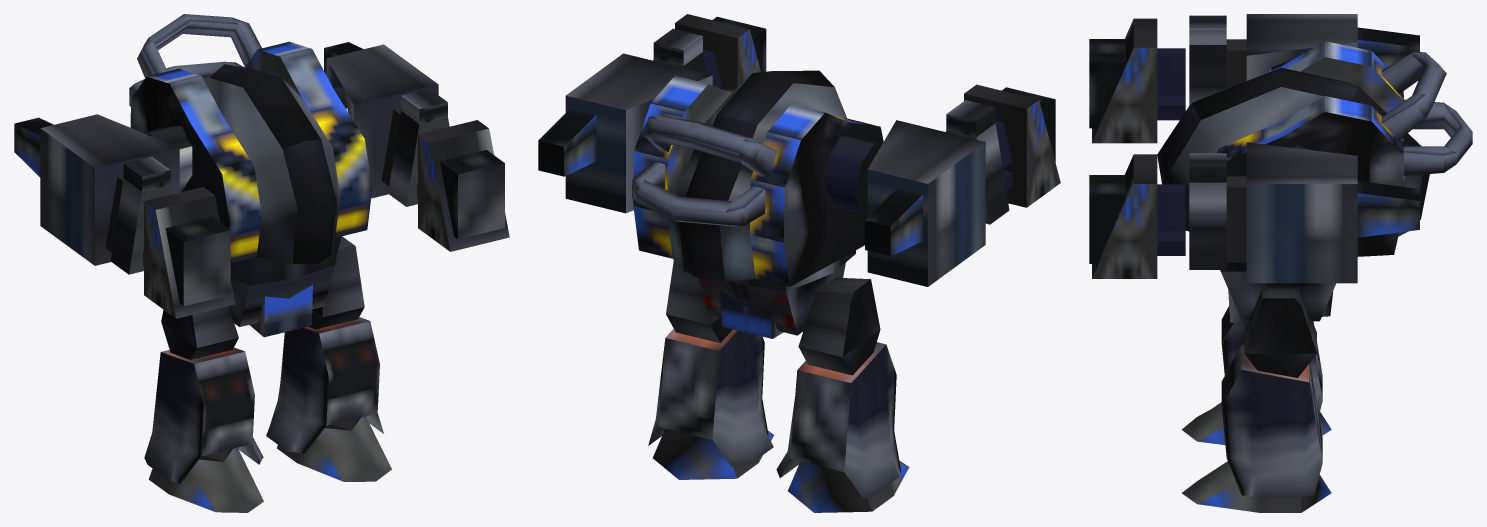
File: armham_blue.glb
3 views of the same model, side by side, from view 1: azimuth 30°, elevation 25°; view 2: azimuth 150°, elevation 25°; view 3: azimuth 270°, elevation 25° (orthographic). The views are drawn at different scales.
Parts seen in each view (by area): view 1: torso, rarm, larm, rleg, lleg, lbarrel, rbarrel, pelvis, rfoot, lfoot, rthigh, lthigh; view 2: torso, rarm, larm, rleg, lleg, rbarrel, rthigh, pelvis, lbarrel, rfoot, lfoot, lthigh; view 3: torso, larm, lleg, rarm, rbarrel, lbarrel, lthigh, lfoot, pelvis, rleg, rfoot.
Boxes of the visible parts, <box> form: torso: <box>129,14,372,263</box>; rarm: <box>14,114,179,274</box>; larm: <box>324,42,449,206</box>; rleg: <box>144,347,263,483</box>; lleg: <box>266,317,383,453</box>; lbarrel: <box>417,120,509,251</box>; rbarrel: <box>143,187,235,318</box>; pelvis: <box>228,236,340,337</box>; rfoot: <box>148,447,263,512</box>; lfoot: <box>277,416,391,481</box>; rthigh: <box>161,306,238,359</box>; lthigh: <box>308,236,364,329</box>; torso: <box>632,70,883,287</box>; rarm: <box>865,100,1009,286</box>; larm: <box>538,28,712,213</box>; rleg: <box>776,342,900,498</box>; lleg: <box>648,329,773,466</box>; rbarrel: <box>964,84,1060,207</box>; rthigh: <box>798,277,880,375</box>; pelvis: <box>699,250,855,338</box>; lbarrel: <box>675,14,766,90</box>; rfoot: <box>788,460,909,512</box>; lfoot: <box>653,428,774,479</box>; lthigh: <box>666,260,732,343</box>; torso: <box>1157,41,1472,256</box>; larm: <box>1189,142,1419,283</box>; lleg: <box>1221,344,1322,497</box>; rarm: <box>1189,14,1419,105</box>; rbarrel: <box>1089,18,1185,143</box>; lbarrel: <box>1089,154,1185,278</box>; lthigh: <box>1244,288,1316,377</box>; lfoot: <box>1182,461,1331,512</box>; pelvis: <box>1220,262,1335,322</box>; rleg: <box>1221,306,1322,414</box>; rfoot: <box>1181,402,1331,444</box>.
Bounding box in the file's own units: 26.23 × 28.52 × 24.99.
Materials: 1 (1 with a texture image).
